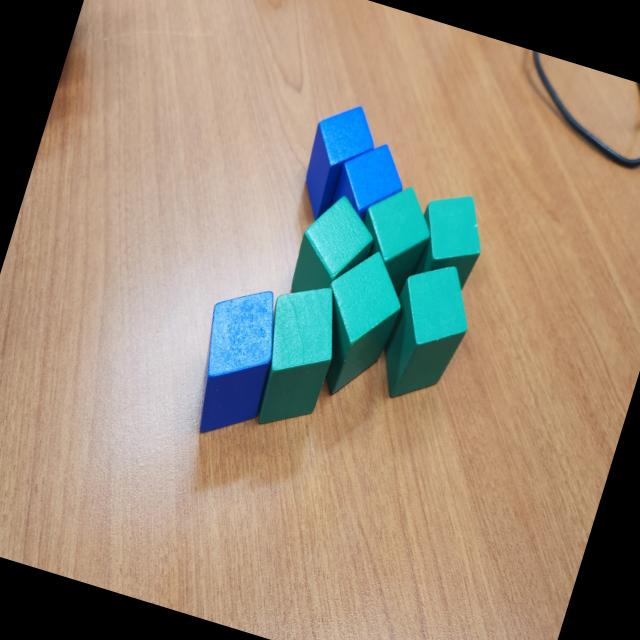blue: (176, 275, 295, 449), (290, 96, 386, 232), (326, 132, 414, 231)
green: (297, 240, 414, 407), (238, 273, 352, 440), (368, 252, 484, 413), (341, 175, 444, 304), (284, 186, 384, 315), (403, 184, 496, 296)
